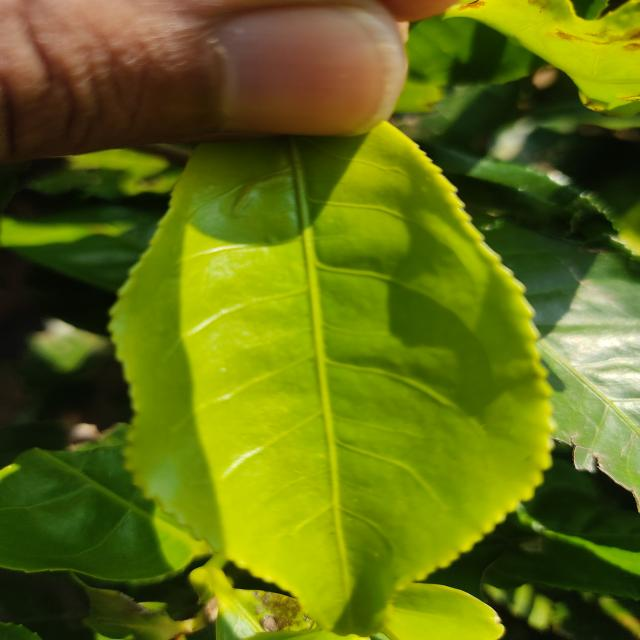Category C(4-7 days): (73, 55, 570, 633)
